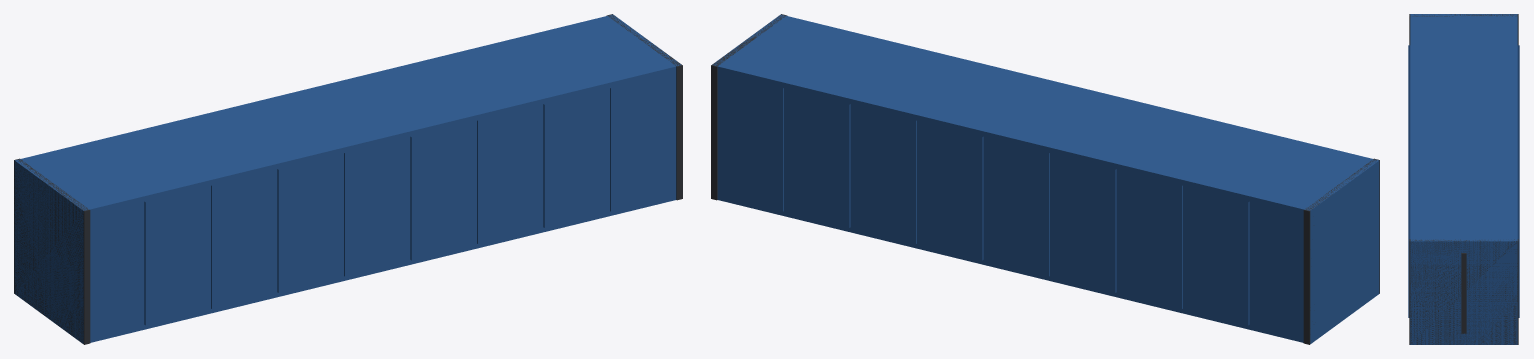
File: prop_in_container_b.glb
The picture shows the model from 3 angles, left to right: view 1: azimuth 30°, elevation 25°; view 2: azimuth 150°, elevation 25°; view 3: azimuth 270°, elevation 25°; orthographic projection. The views are drawn at different scales.
Parts seen in each view (by area): view 1: prop_in_container_b; view 2: prop_in_container_b; view 3: prop_in_container_b.
Part boxes in pixels (x1=…): prop_in_container_b: x1=14, y1=14, x2=682, y2=344; prop_in_container_b: x1=711, y1=14, x2=1379, y2=344; prop_in_container_b: x1=1408, y1=14, x2=1519, y2=344.
Size of what is drawn, in the model's own units: 12.23 by 2.6 by 2.52.
